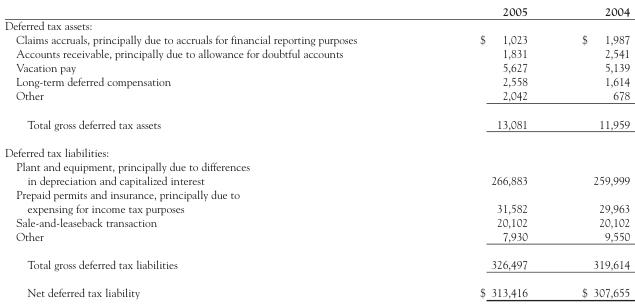table: (3, 4, 629, 298)
table column: (3, 4, 417, 298), (417, 4, 554, 298), (554, 4, 629, 298)
table column header: (3, 4, 629, 17)
table projected row header: (3, 137, 629, 158), (3, 17, 629, 31)
table row: (3, 109, 629, 137), (3, 158, 629, 186), (3, 186, 629, 214), (3, 249, 629, 277), (3, 88, 629, 109), (3, 137, 629, 158), (3, 228, 629, 249), (3, 277, 629, 298), (3, 45, 629, 60), (3, 17, 629, 31), (3, 31, 629, 45), (3, 60, 629, 74), (3, 74, 629, 88), (3, 214, 629, 228), (3, 4, 629, 17)
